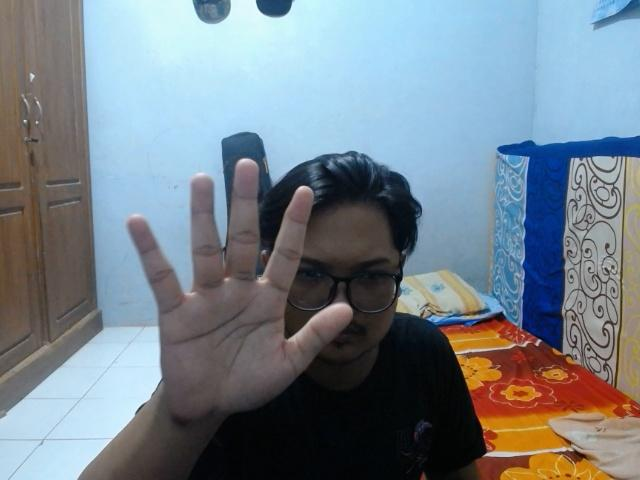Release: (122, 153, 359, 428)
